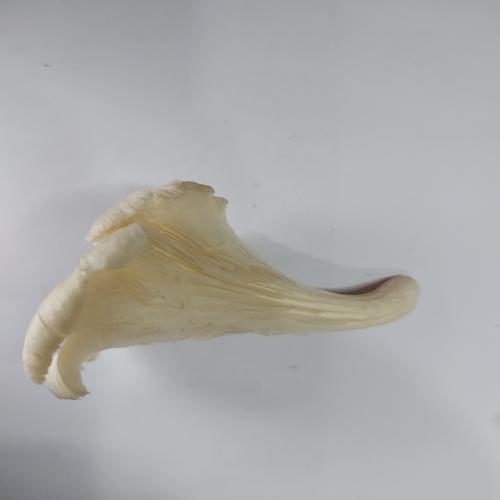Oyster Mushroom: (21, 178, 420, 401)
